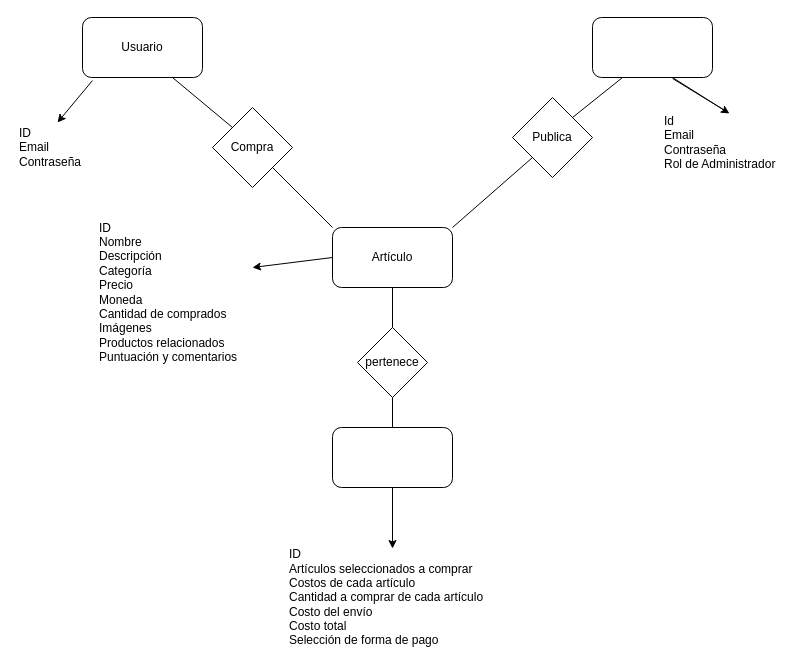
This 809x665 diagram has some shape labels left out. Each missing label, with the box of its shape:
Carrito: (332, 426, 452, 488)
Vendedor: (592, 16, 712, 78)
